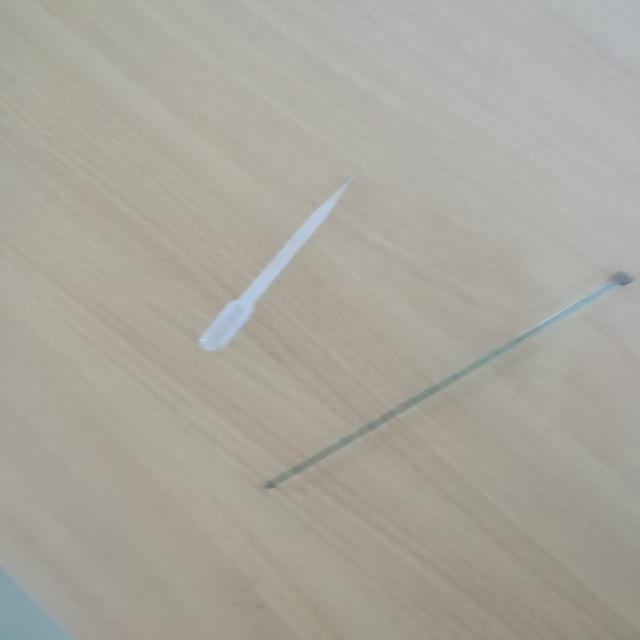Glass_Rod: (242, 250, 640, 506)
Pipette: (172, 144, 400, 360)
